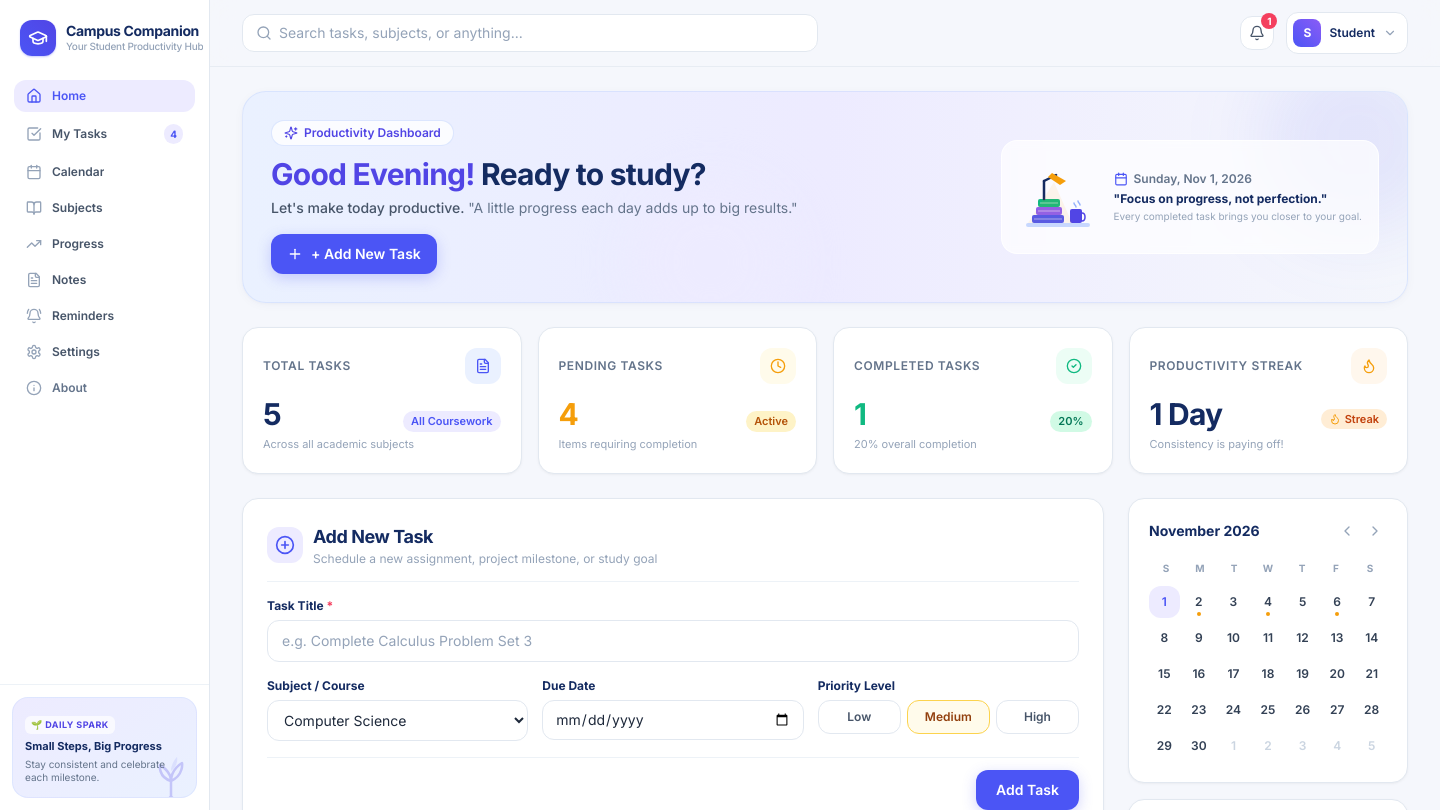
Test: Campus Companion Redesigned Dashboard › navigates to Progress view and displays analytics
Click the button "Progress" at (104, 244), box [14,228,195,260]
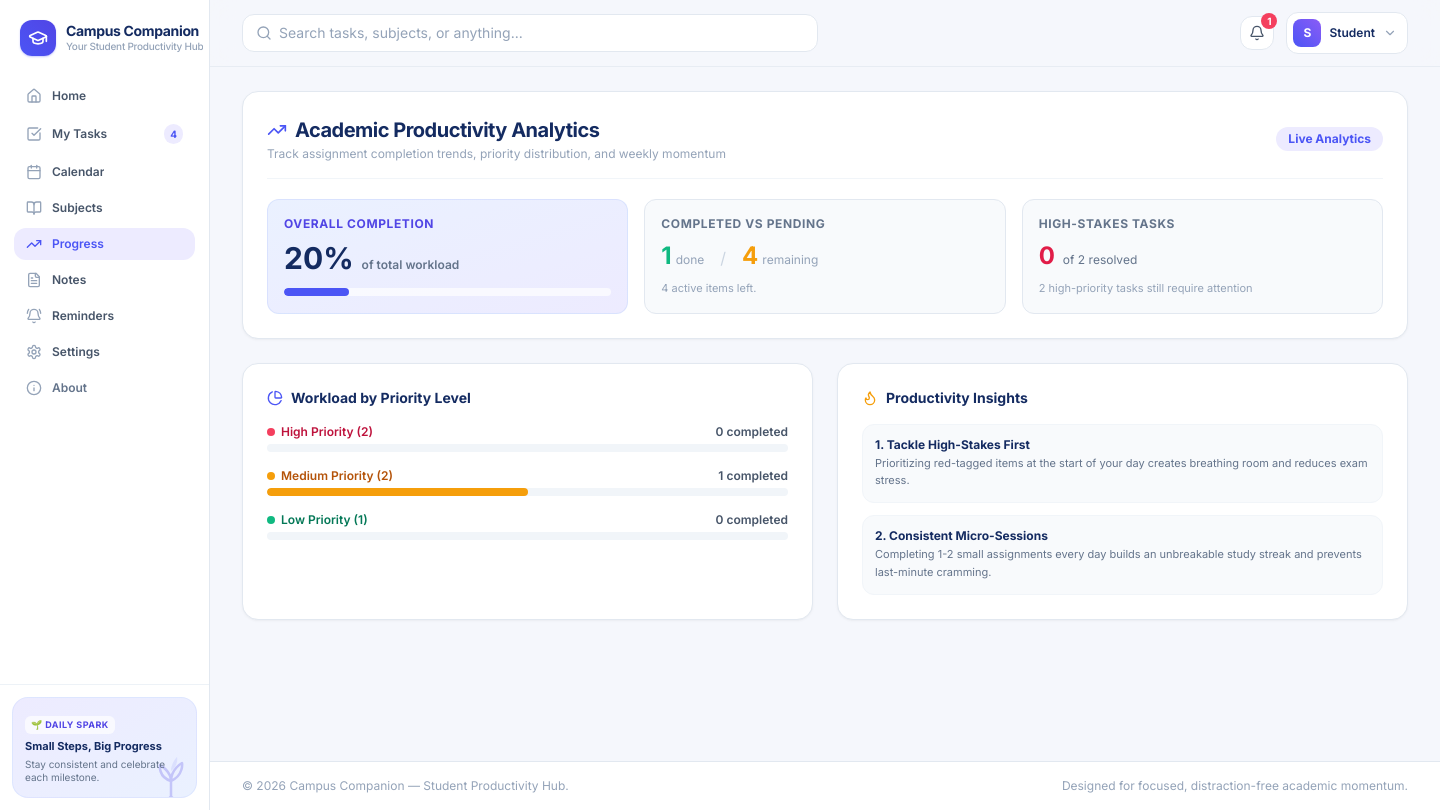
Expected: the text "Overall Completion" is shown, [284,216,434,231]
Result: the text "Academic Productivity Analytics" is shown at [295,116,599,144]
